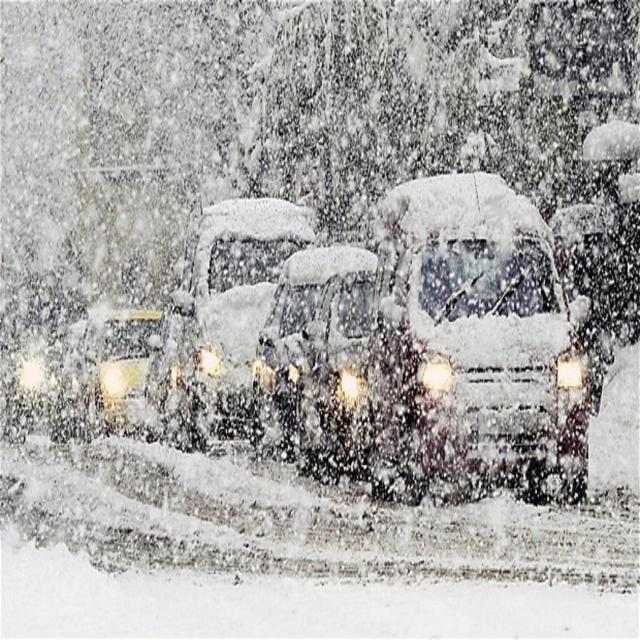car: (375, 181, 589, 514), (178, 202, 270, 432), (296, 264, 380, 476), (258, 245, 316, 449), (80, 305, 159, 439), (147, 290, 193, 438)
